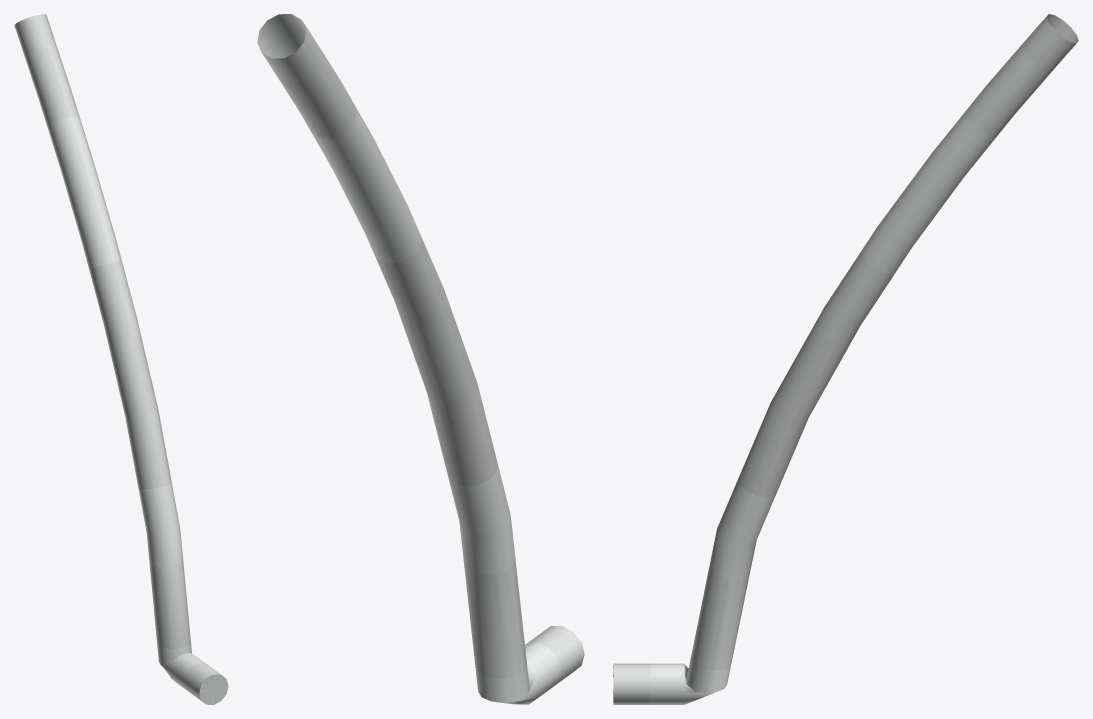
The model's file is luminairearm_laupsweep12ft_c1.obj.
3 views of the same model, side by side, from view 1: azimuth 30°, elevation 25°; view 2: azimuth 150°, elevation 25°; view 3: azimuth 270°, elevation 25° (orthographic). The views are drawn at different scales.
Parts seen in each view (by area): view 1: luminairearm_laupsweep12ft_c1; view 2: luminairearm_laupsweep12ft_c1; view 3: luminairearm_laupsweep12ft_c1.
Part boxes in pixels (<box>): luminairearm_laupsweep12ft_c1: <box>14,14,228,704</box>; luminairearm_laupsweep12ft_c1: <box>257,14,584,704</box>; luminairearm_laupsweep12ft_c1: <box>613,14,1078,704</box>.
Size of the model in its own units: 0.0562 by 1.02 by 0.6295.
